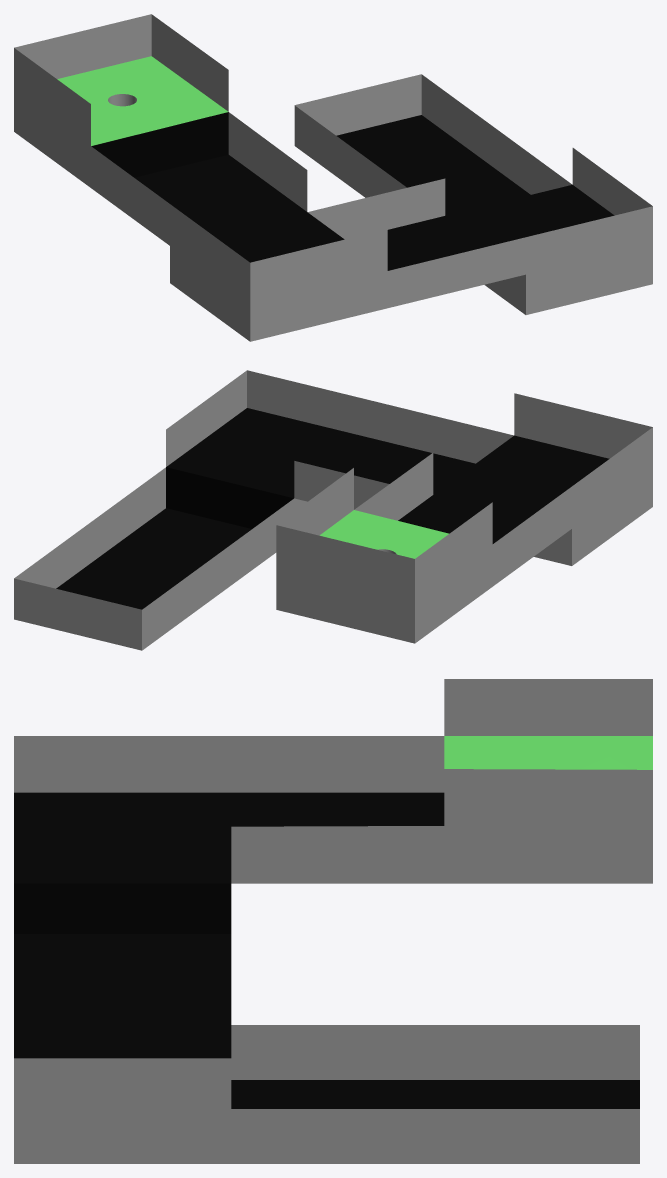
The model's file is map4.fbx.
3 views of the same model, one above another, from view 1: azimuth 30°, elevation 25°; view 2: azimuth 150°, elevation 25°; view 3: azimuth 270°, elevation 25° (orthographic). The views are drawn at different scales.
Parts seen in each view (by area): view 1: pPlane2; view 2: pPlane2; view 3: pPlane2.
Boxes of the visible parts, x1=… form: pPlane2: x1=14, y1=14, x2=652, y2=341; pPlane2: x1=14, y1=370, x2=652, y2=650; pPlane2: x1=14, y1=679, x2=652, y2=1163.
Size of the model in its own units: 31.68 by 12.22 by 32.18.
